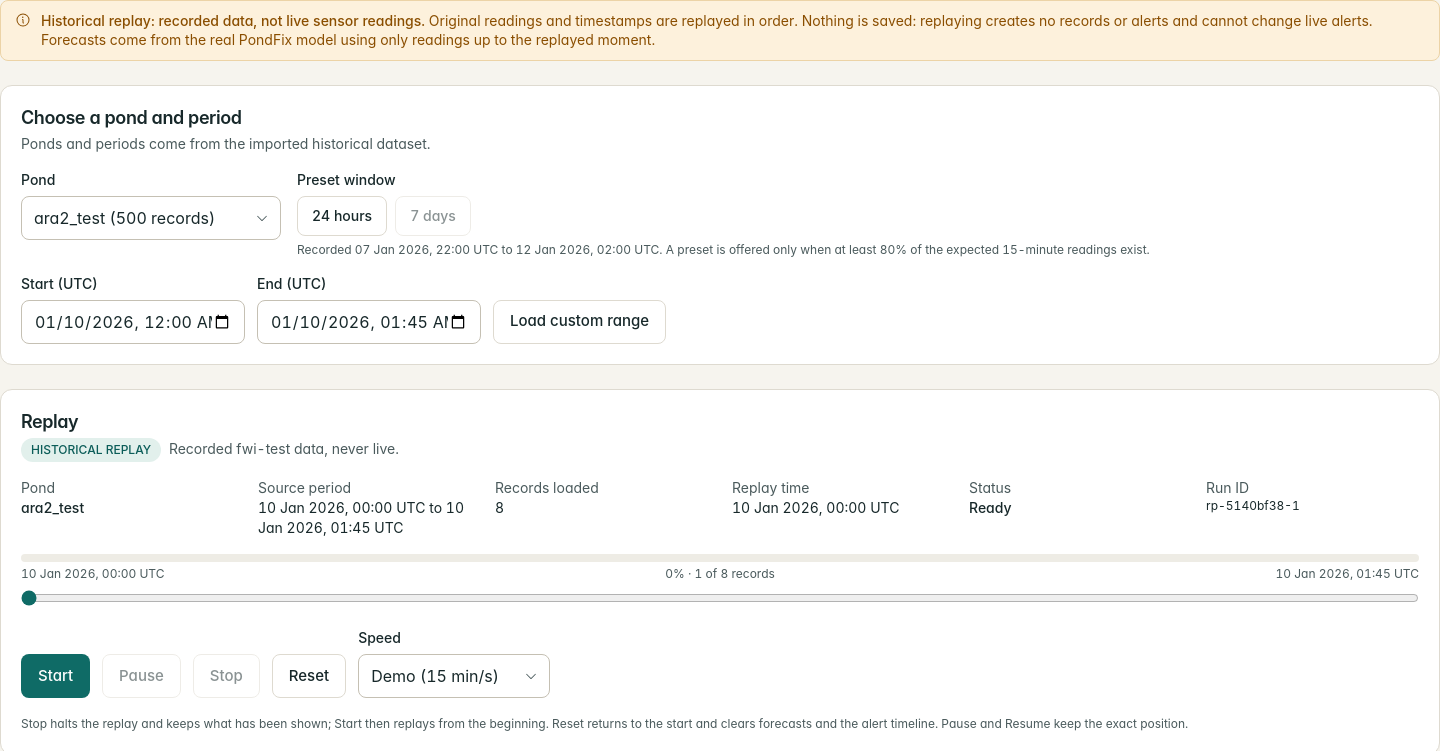
it: historical replay page › shows the server's explanation when history is insufficient
Expected: the text "Records loaded" is shown, [495,479,599,496]
Select "Demo (15 min/s)" in the dropdown labelled "Speed" at (454, 676), box [358,654,550,698]
Click the button "Start" at (56, 676), box [21,654,90,698]
Wait 200 ms
(page scrolled)
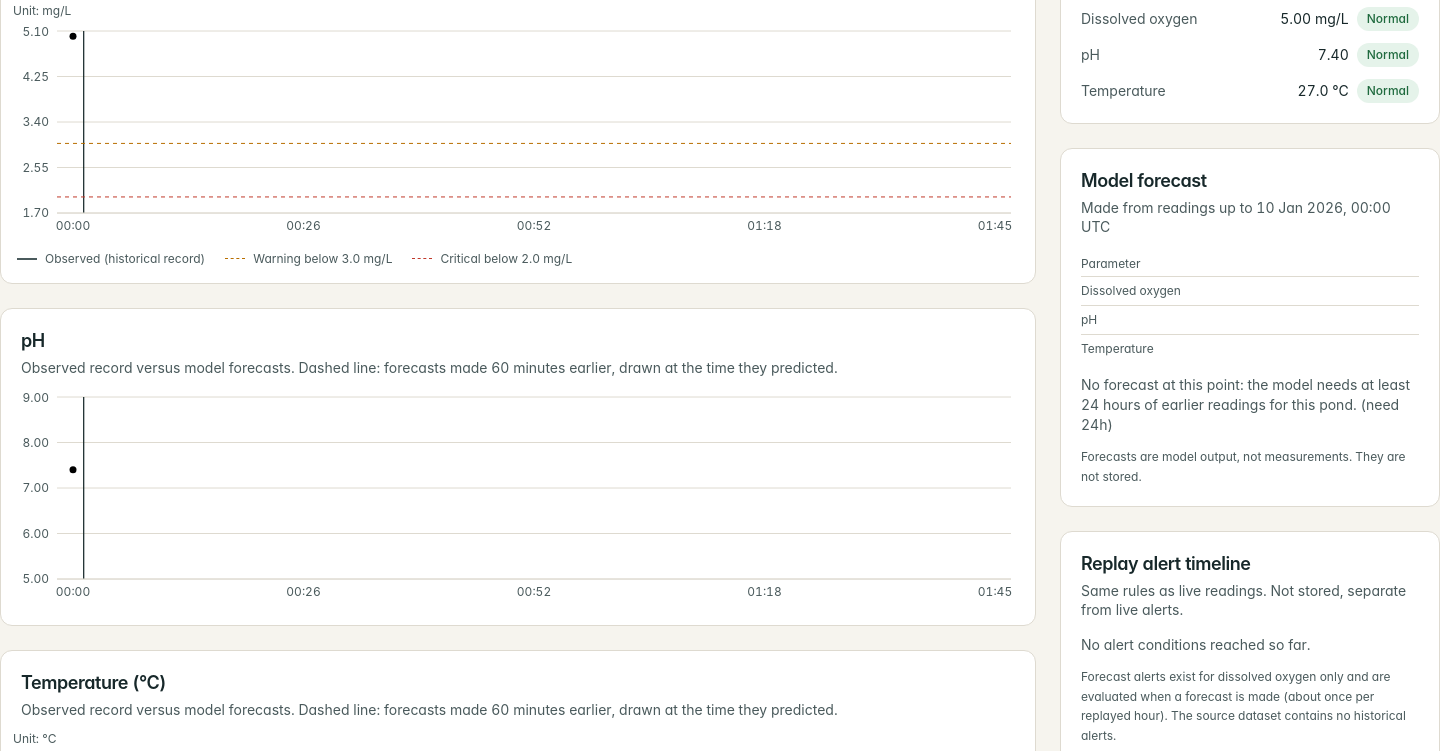
Expected: the text "needs at least 24 hours of earlier readings" is shown, [1081,376,1410,413]
